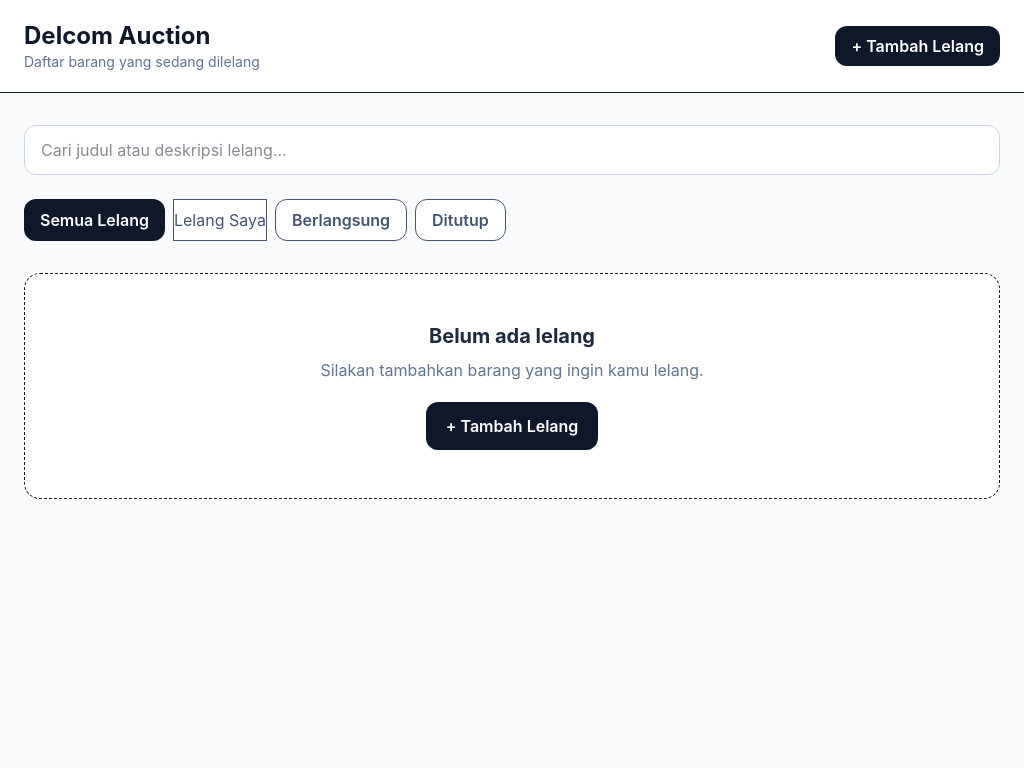
Test: HomePage list › shows empty state with add button that opens the modal
The image size is (1024, 768).
Click the button "+ Tambah Lelang" below "Belum ada lelang" at [512, 426], box [426,402,598,450]
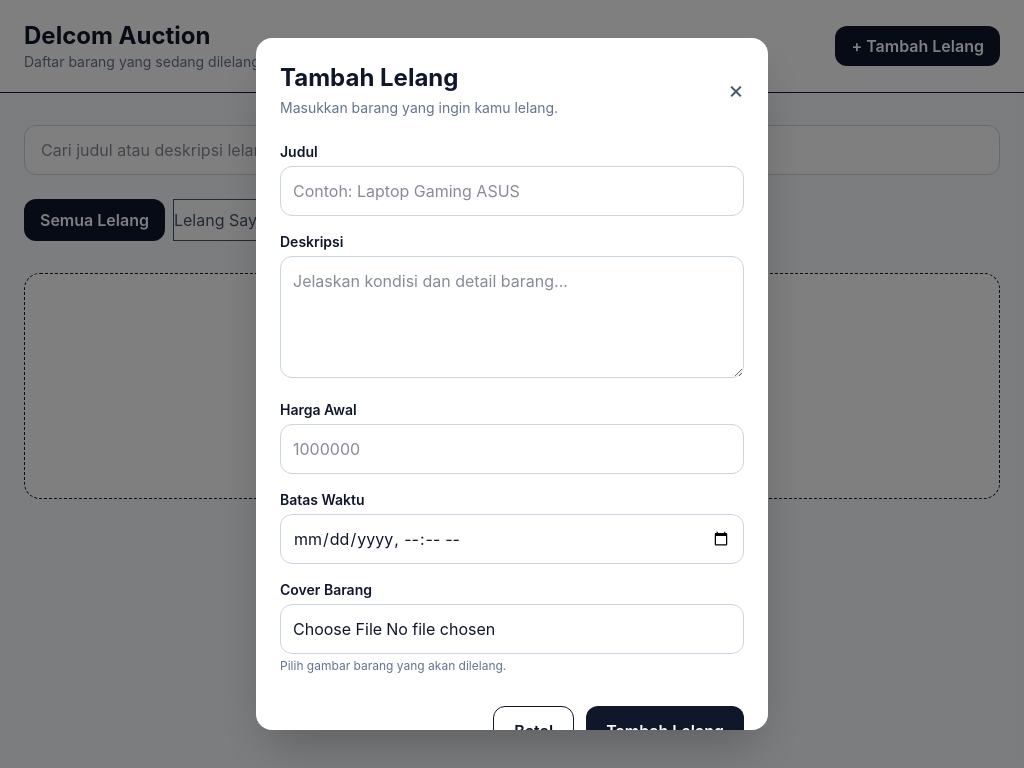
Result: the form is shown at [280,142,744,730]
